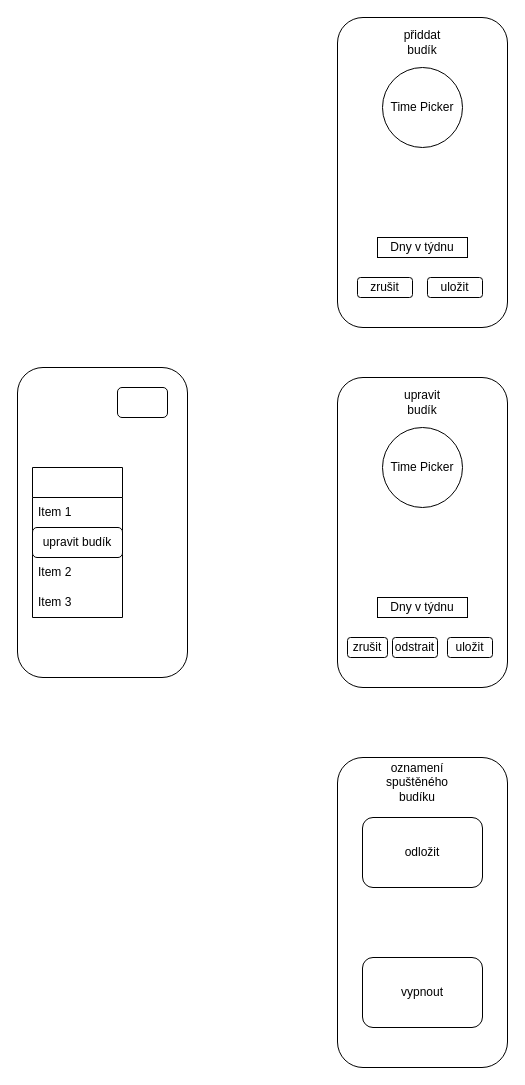
Some shapes in this 525 by 1085 pixel diagram are drawn without their labels. Each missing label, with the box of its shape:
Budiky: (32, 466, 122, 618)
přidat budík: (116, 386, 168, 418)
